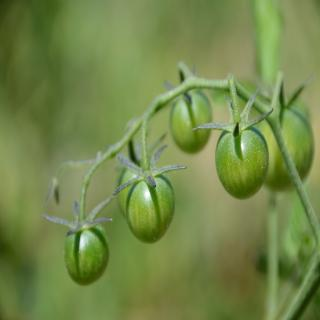tomato: (192, 93, 273, 200), (113, 142, 186, 245), (256, 72, 316, 193), (41, 197, 117, 287), (167, 62, 213, 154), (116, 134, 166, 216)
